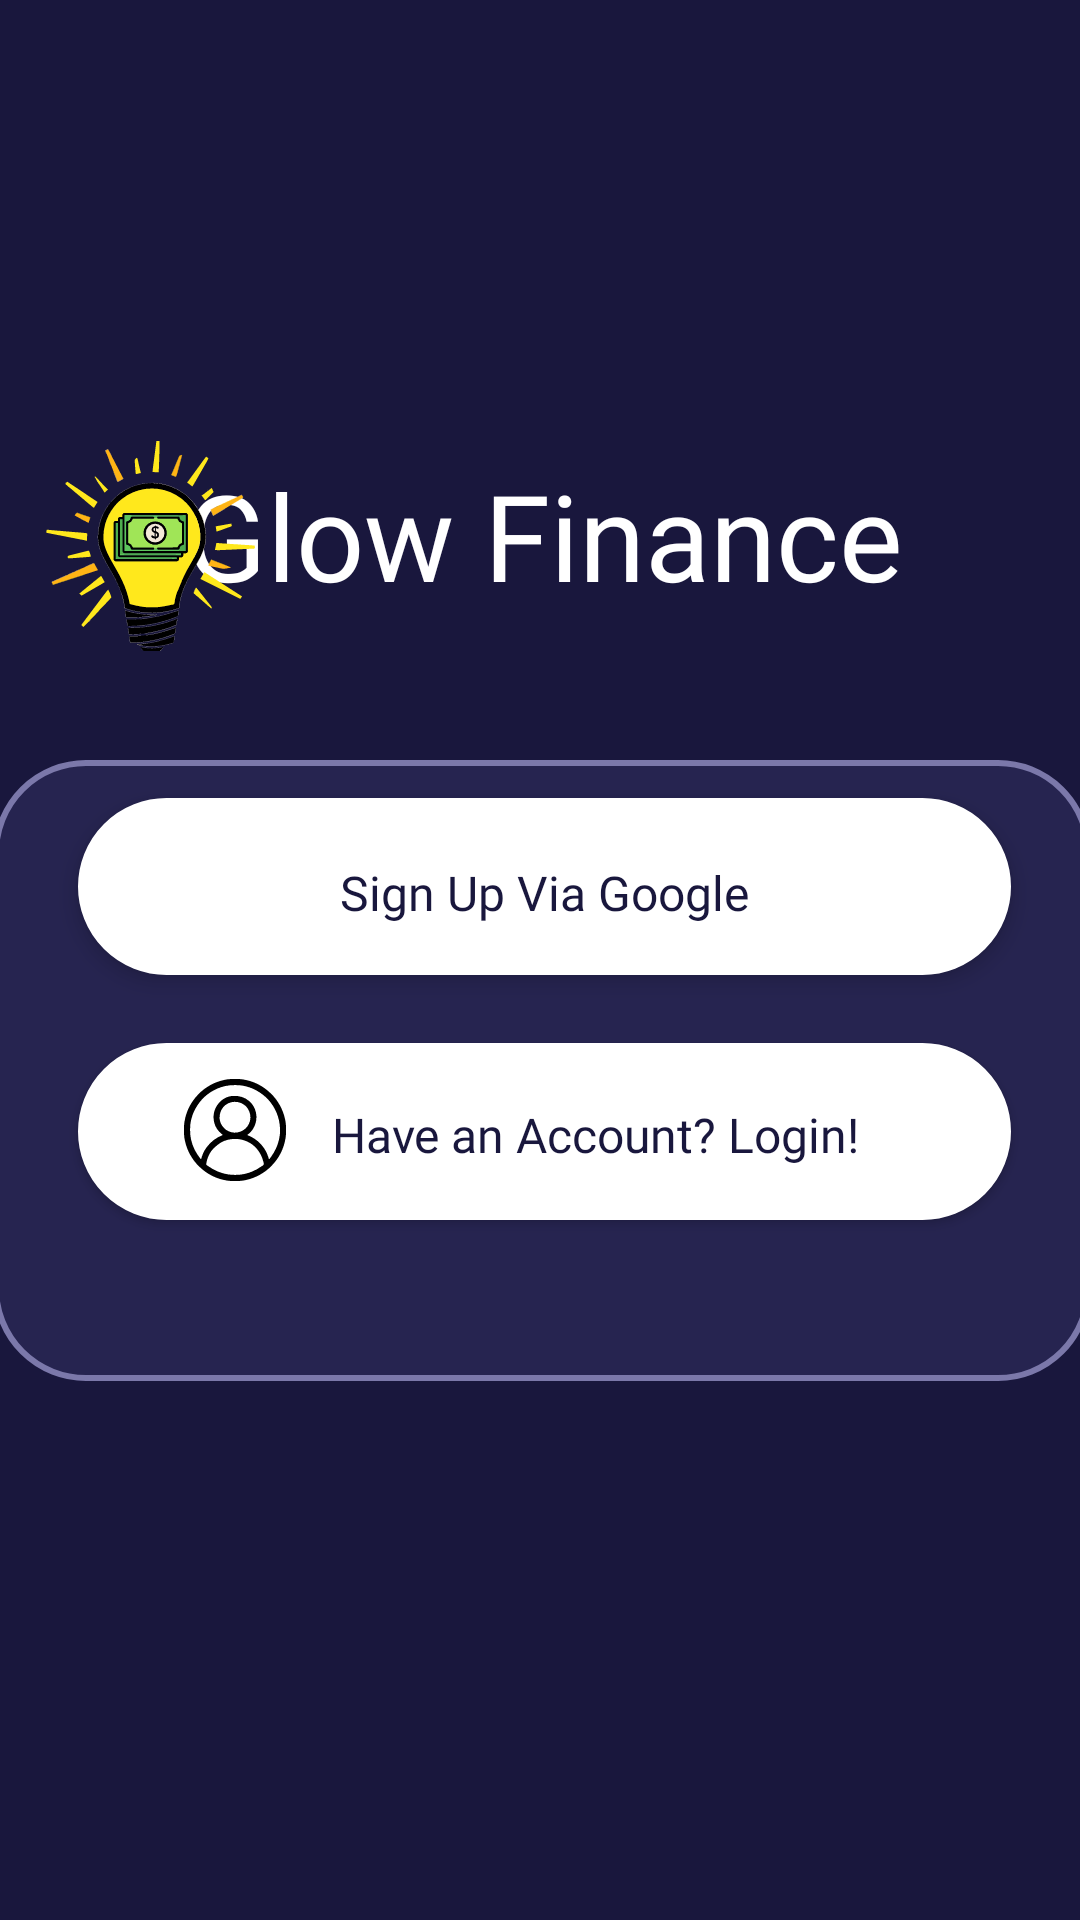

Icons on this 1080×1920 Android screen, each with the point to tap as (x,y):
profile page: (235,1130)
